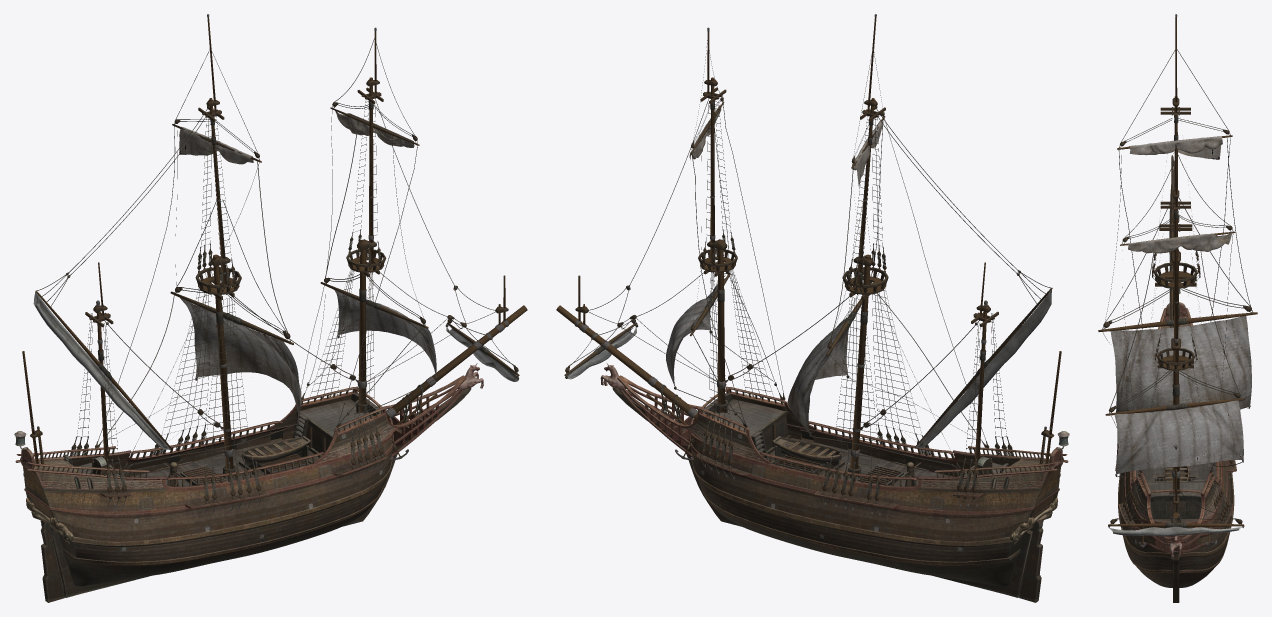
Rendered from dutch-ship-medium.obj.
3 views of the same model, side by side, from view 1: azimuth 30°, elevation 25°; view 2: azimuth 150°, elevation 25°; view 3: azimuth 270°, elevation 25° (orthographic). The views are drawn at different scales.
Parts seen in each view (by area): view 1: Hull, Rigging, Sails; view 2: Hull, Rigging, Sails; view 3: Sails, Rigging, Hull.
Part boxes in pixels (x1,y1,x2,y2): Hull: [14, 363, 483, 602]; Rigging: [22, 14, 527, 516]; Sails: [179, 111, 436, 419]; Hull: [600, 363, 1069, 602]; Rigging: [556, 14, 1061, 516]; Sails: [666, 104, 882, 433]; Sails: [1110, 136, 1251, 474]; Rigging: [1098, 14, 1257, 547]; Hull: [1115, 289, 1236, 602].
Size of the model in its own units: 24.07 by 24.66 by 6.81.
Materials: 3 (3 with a texture image).
